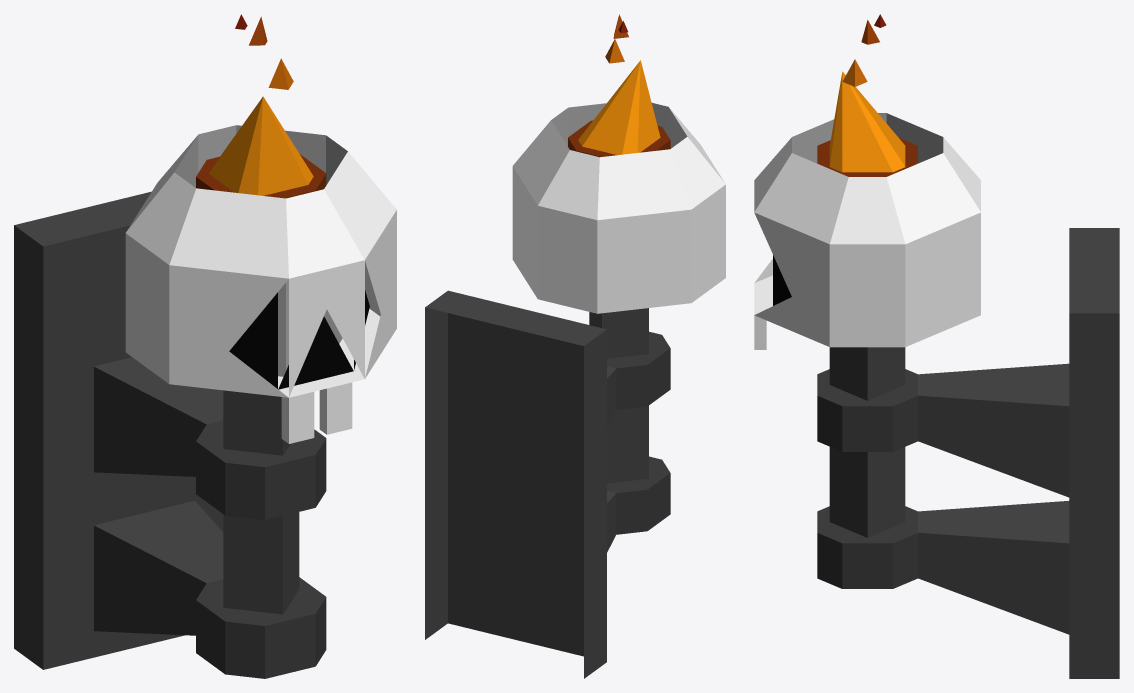
Rendered from skulltorcha4.obj.
3 renders of one model, left to right at view 1: azimuth 30°, elevation 25°; view 2: azimuth 150°, elevation 25°; view 3: azimuth 270°, elevation 25°, orthographic. The views are drawn at different scales.
Visible parts, largest first — view 1: skulltorcha4_back; view 2: skulltorcha4_back; view 3: skulltorcha4_back.
Boxes of the visible parts, <box> form: skulltorcha4_back: <box>14,14,396,678</box>; skulltorcha4_back: <box>425,14,725,678</box>; skulltorcha4_back: <box>754,14,1119,678</box>.
Bounding box in the file's own units: 0.36 × 1.08 × 0.58.
